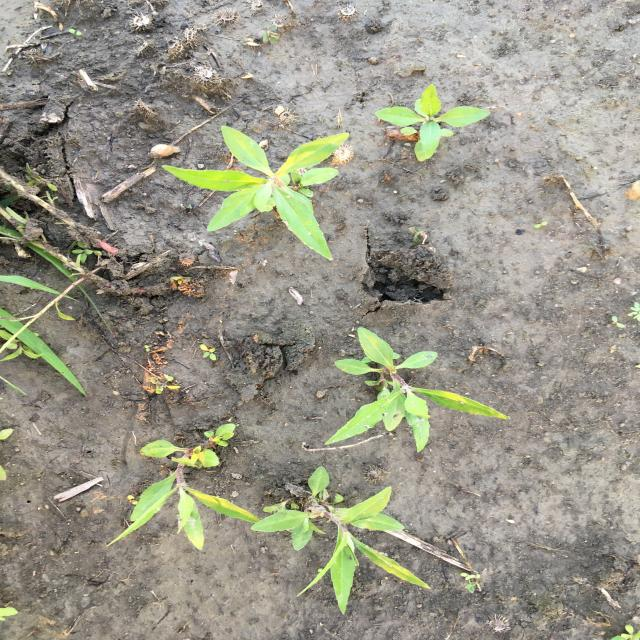Eclipta: (250, 466, 433, 616), (158, 125, 352, 262), (323, 326, 512, 454), (105, 423, 264, 552), (374, 83, 492, 163)
